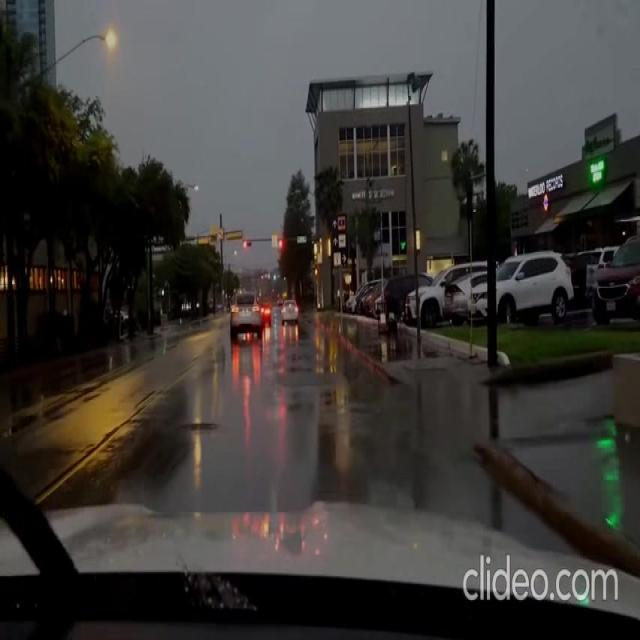Car: (462, 250, 574, 322), (412, 254, 494, 310), (590, 229, 639, 321), (444, 265, 499, 319), (228, 289, 262, 337), (352, 277, 394, 314), (279, 296, 297, 322)
